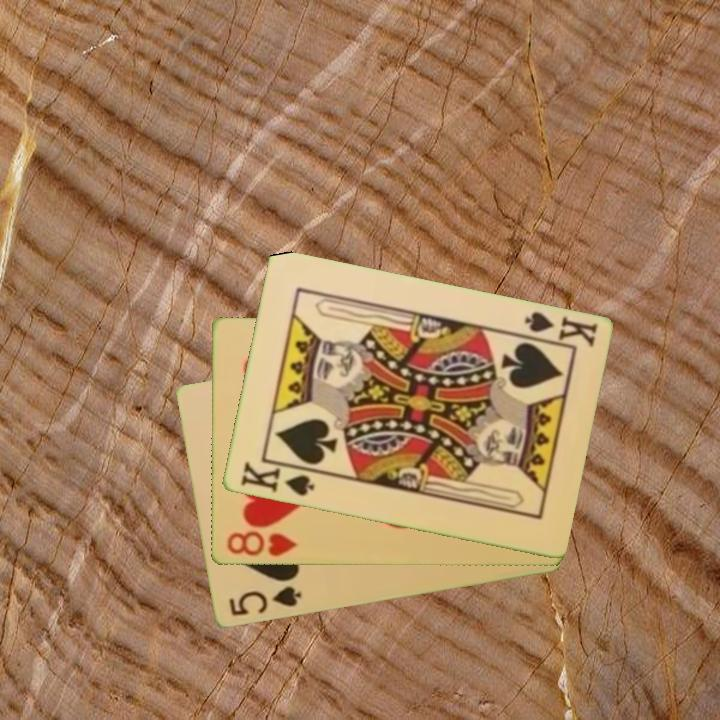5s: (225, 583, 304, 619)
8h: (223, 528, 300, 560)
Ks: (515, 308, 600, 351), (236, 458, 317, 500)
